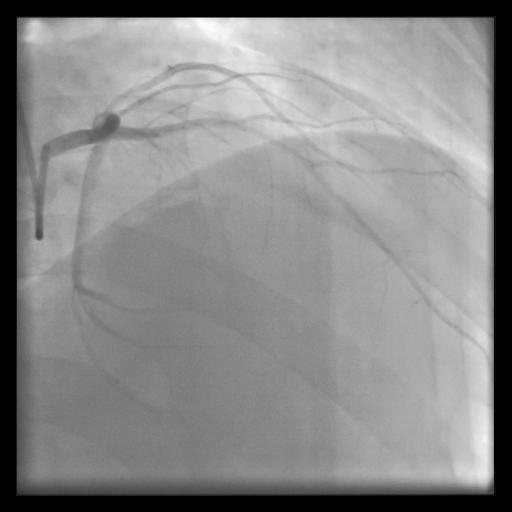Stenosis: (100, 83, 146, 109)
